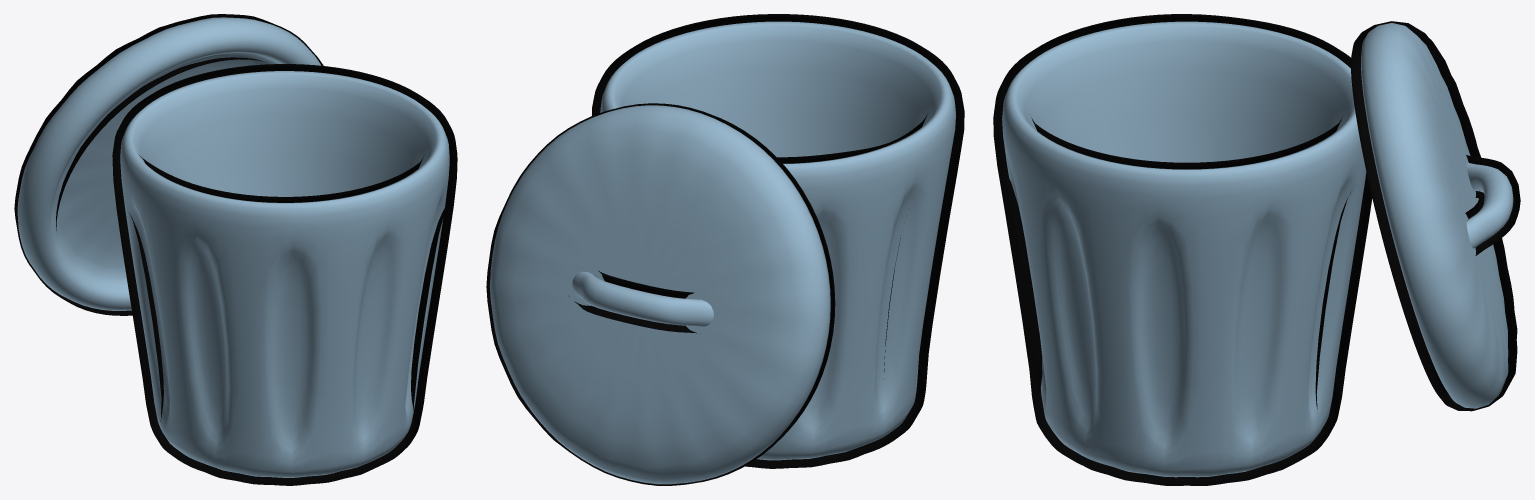
File: TrashCan.fbx
3 renders of one model, left to right at view 1: azimuth 30°, elevation 25°; view 2: azimuth 150°, elevation 25°; view 3: azimuth 270°, elevation 25°, orthographic. The views are drawn at different scales.
Visible parts, largest first — view 1: pCylinder1, pCylinder2, outline1, outline2; view 2: pCylinder2, pCylinder1, outline1, outline2, pCube1, outline3; view 3: pCylinder1, pCylinder2, outline1, outline2, pCube1, outline3.
Part boxes in pixels (<box>): pCylinder1: <box>120,71,449,477</box>; pCylinder2: <box>17,17,321,310</box>; outline1: <box>112,64,457,485</box>; outline2: <box>14,14,323,315</box>; pCylinder2: <box>489,105,830,484</box>; pCylinder1: <box>600,21,955,460</box>; outline1: <box>592,14,964,468</box>; outline2: <box>486,103,835,485</box>; pCube1: <box>572,271,713,326</box>; outline3: <box>568,270,700,333</box>; pCylinder1: <box>1002,21,1366,477</box>; pCylinder2: <box>1361,23,1508,408</box>; outline1: <box>993,14,1372,485</box>; outline2: <box>1351,21,1517,411</box>; pCube1: <box>1466,162,1513,248</box>; outline3: <box>1465,155,1520,255</box>.
Size of the model in its own units: 2.11 by 2.33 by 2.8.
